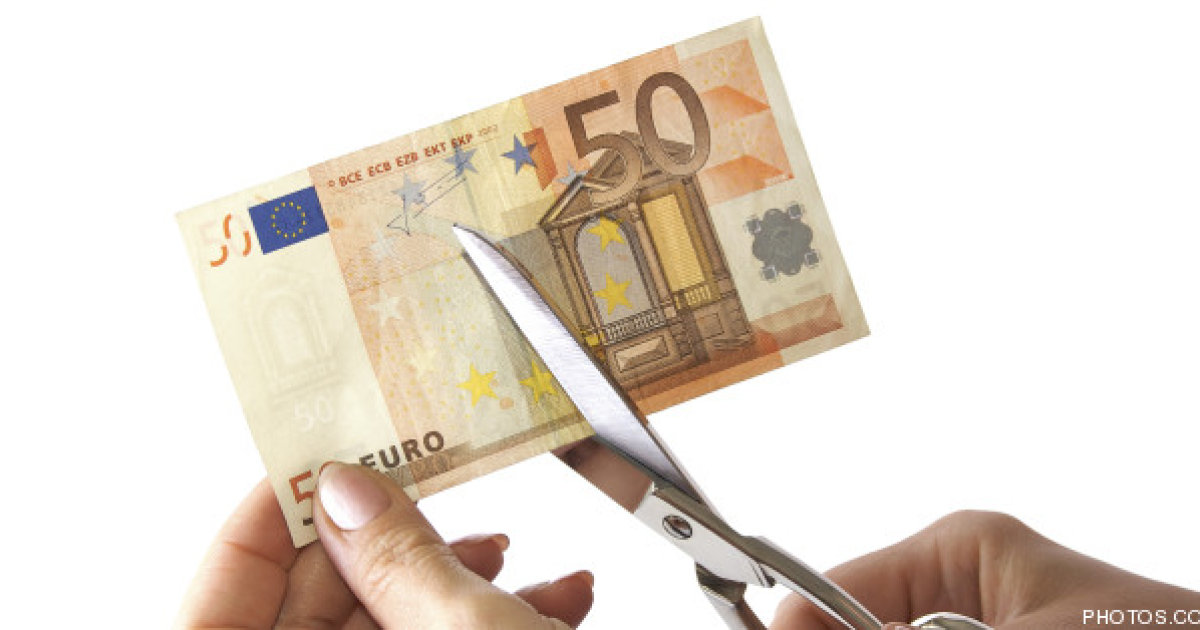billete: (171, 13, 875, 551)
